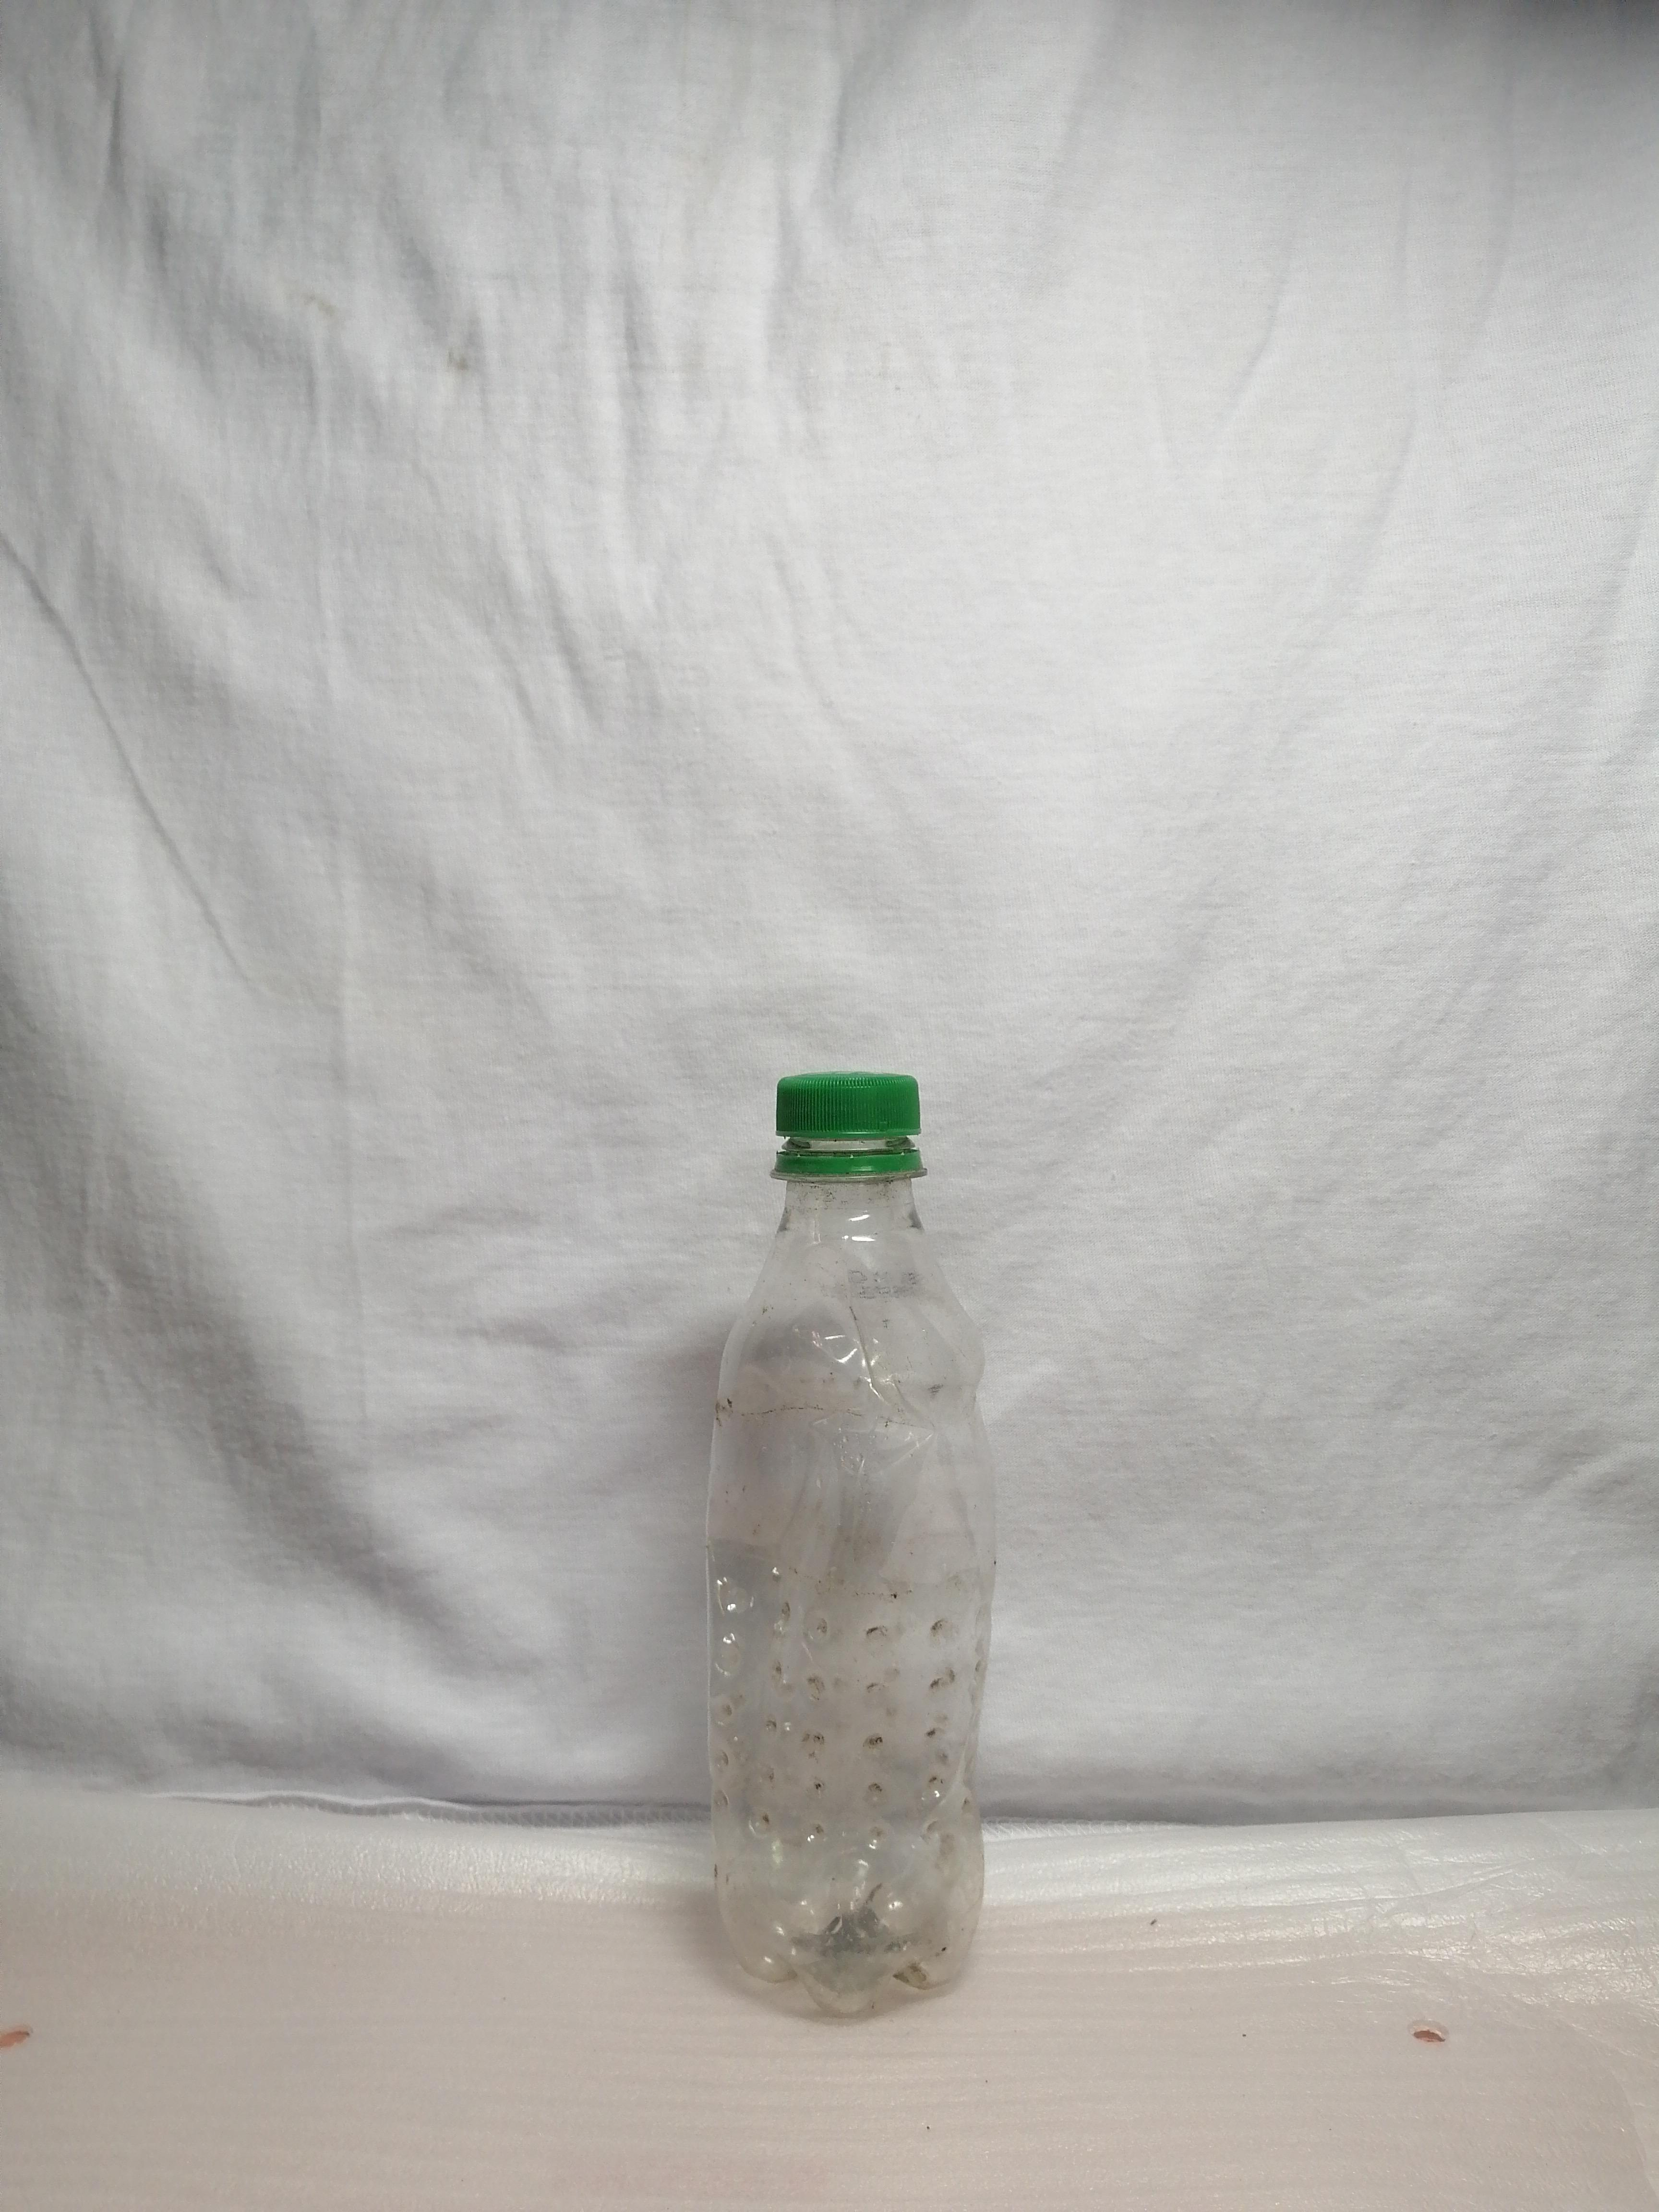plastic-bottle: (667, 1056, 1022, 2035)
